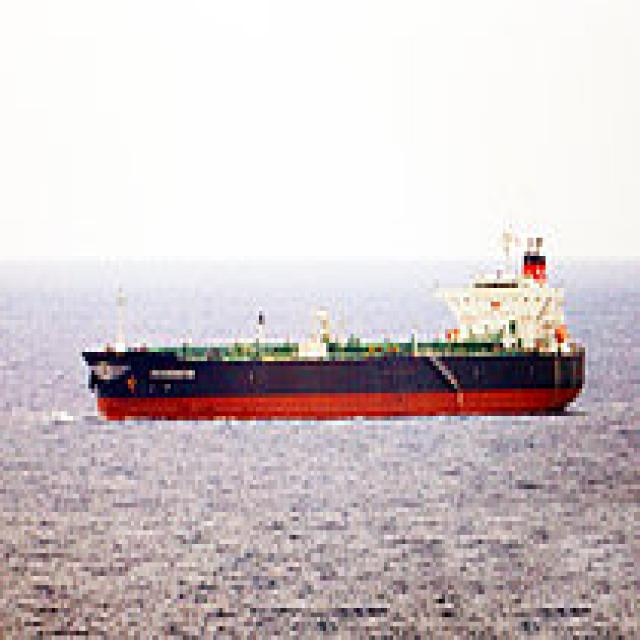Tanker: (76, 206, 588, 420)
